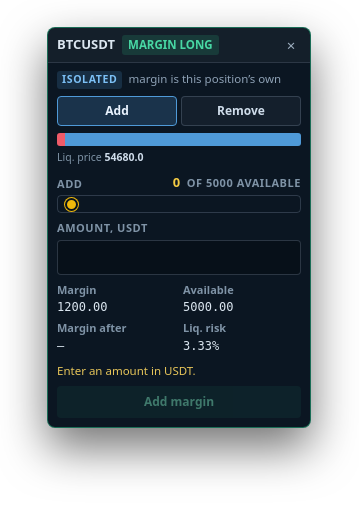
Scenario: FuturesPositionMarginEditor › refuses a removal that would cross the liquidation floor
Click the button "Remove". click: (241, 111)
box: [181,96,301,126]
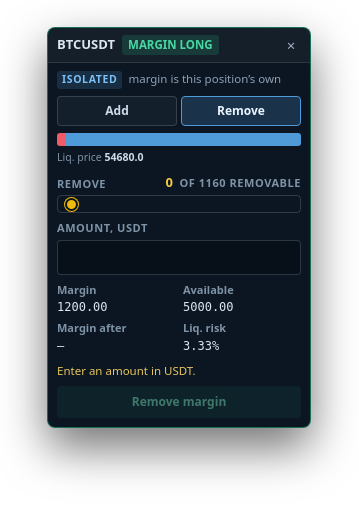
Type "1180" into the field named "Margin amount in USDT". click: (179, 257)
box: [57,240,301,274]
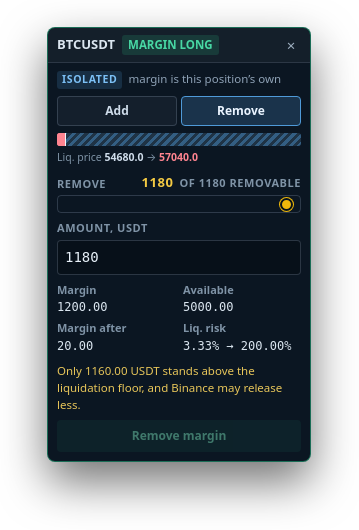
Expected: the button "Remove margin" is disabled, [57,420,301,452]
Now the message shows "Only 1160.00 USDT stands above the liquidation floor", box [57,362,282,412]
